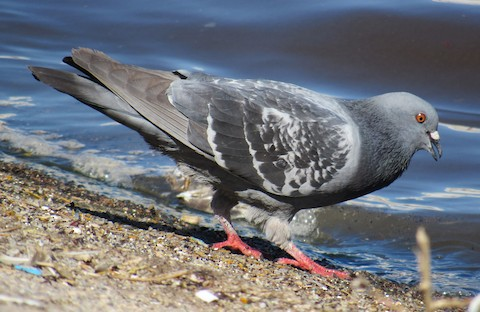pigeon: (24, 41, 446, 285)
